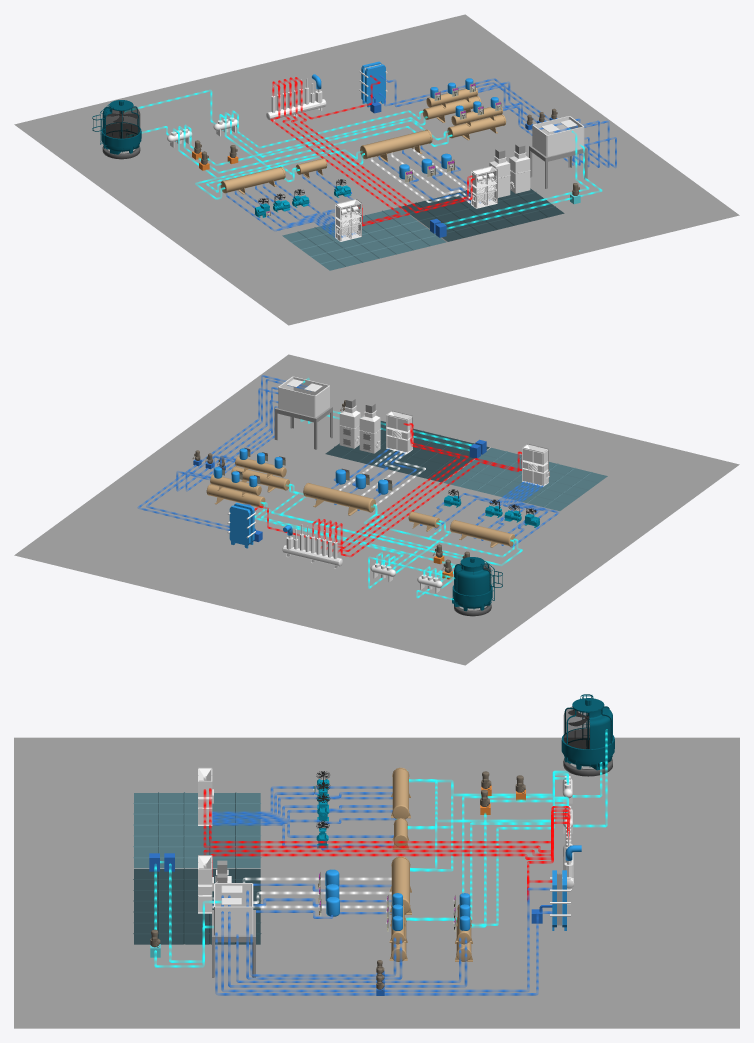
The picture shows the model from 3 angles, top to bottom: view 1: azimuth 30°, elevation 25°; view 2: azimuth 150°, elevation 25°; view 3: azimuth 270°, elevation 25°; orthographic projection. The views are drawn at different scales.
Parts seen in each view (by area): view 1: Land_4_floor, FBXASC229FBXASC185FBXASC179FBXASC233FBXASC157FBXASC162FBXASC, FBXASC231FBXASC171FBXASC139FBXASC230FBXASC150FBXASC185FBXAS. (×2), FBXASC229FBXASC134FBXASC183FBXASC229FBXASC135FBXASC157FBXASC (×3), lengfengta, FBXASC230FBXASC156FBXASC186FBXASC230FBXASC159FBXASC156FBXASC (×2), FBXASC229FBXASC164FBXASC150FBXASC230FBXASC156FBXASC186FBXASC (×2), FBXASC229FBXASC164FBXASC150FBXASC232FBXASC146FBXASC184FBXASC, 4_GD_move.006, FBXASC229FBXASC134FBXASC183FBXASC229FBXASC135FBXASC157FBXAS, 4_GD_move.017, 4_GD_move.034 (+8 smaller); view 2: Land_4_floor, FBXASC229FBXASC185FBXASC179FBXASC233FBXASC157FBXASC162FBXASC, FBXASC231FBXASC171FBXASC139FBXASC230FBXASC150FBXASC185FBXAS. (×2), FBXASC229FBXASC134FBXASC183FBXASC229FBXASC135FBXASC157FBXASC (×3), lengfengta, FBXASC230FBXASC156FBXASC186FBXASC230FBXASC159FBXASC156FBXASC (×2), FBXASC229FBXASC164FBXASC150FBXASC230FBXASC156FBXASC186FBXASC (×2), FBXASC229FBXASC164FBXASC150FBXASC232FBXASC146FBXASC184FBXASC, FBXASC229FBXASC134FBXASC183FBXASC229FBXASC135FBXASC157FBXAS. (×2), 4_GD_move.001, 4_GD_move.019, 4_GD_move (+5 smaller); view 3: Land_4_floor, FBXASC229FBXASC185FBXASC179FBXASC233FBXASC157FBXASC162FBXASC, lengfengta, FBXASC231FBXASC171FBXASC139FBXASC230FBXASC150FBXASC185FBXAS., FBXASC229FBXASC134FBXASC183FBXASC229FBXASC135FBXASC157FBXASC (×2), FBXASC230FBXASC156FBXASC186FBXASC230FBXASC159FBXASC156FBXASC (×2), 4_GD_move.001, 4_GD_move, 4_GD_move.018, 4_GD_move.016, 4_GD_move.017, 4_GD_move.019 (+10 smaller).
Part boxes in pixels (box(x1,y1,x2,y2)): Land_4_floor: box(14, 14, 739, 325); FBXASC229FBXASC185FBXASC179FBXASC233FBXASC157FBXASC162FBXASC: box(282, 188, 564, 270); FBXASC231FBXASC171FBXASC139FBXASC230FBXASC150FBXASC185FBXAS. (×2): box(365, 64, 587, 188); FBXASC229FBXASC134FBXASC183FBXASC229FBXASC135FBXASC157FBXASC (×3): box(220, 96, 481, 194); lengfengta: box(92, 100, 141, 159); FBXASC230FBXASC156FBXASC186FBXASC230FBXASC159FBXASC156FBXASC (×2): box(335, 165, 497, 241); FBXASC229FBXASC164FBXASC150FBXASC230FBXASC156FBXASC186FBXASC (×2): box(489, 151, 530, 197); FBXASC229FBXASC164FBXASC150FBXASC232FBXASC146FBXASC184FBXASC: box(266, 78, 326, 122); 4_GD_move.006: box(444, 128, 602, 229); FBXASC229FBXASC134FBXASC183FBXASC229FBXASC135FBXASC157FBXAS: box(447, 114, 506, 140); 4_GD_move.017: box(283, 79, 474, 213); 4_GD_move.034: box(178, 126, 452, 173); Land_4_floor: box(14, 354, 739, 665); FBXASC229FBXASC185FBXASC179FBXASC233FBXASC157FBXASC162FBXASC: box(325, 421, 607, 511); FBXASC231FBXASC171FBXASC139FBXASC230FBXASC150FBXASC185FBXAS. (×2): box(229, 376, 332, 548); FBXASC229FBXASC134FBXASC183FBXASC229FBXASC135FBXASC157FBXASC (×3): box(206, 483, 515, 547); lengfengta: box(452, 557, 502, 616); FBXASC230FBXASC156FBXASC186FBXASC230FBXASC159FBXASC156FBXASC (×2): box(386, 410, 549, 486); FBXASC229FBXASC164FBXASC150FBXASC230FBXASC156FBXASC186FBXASC (×2): box(339, 405, 380, 453); FBXASC229FBXASC164FBXASC150FBXASC232FBXASC146FBXASC184FBXASC: box(282, 524, 342, 568); FBXASC229FBXASC134FBXASC183FBXASC229FBXASC135FBXASC157FBXAS. (×2): box(210, 456, 286, 496); 4_GD_move.001: box(146, 375, 307, 527); 4_GD_move.019: box(334, 451, 521, 556); 4_GD_move: box(137, 388, 278, 530); Land_4_floor: box(14, 737, 739, 1028); FBXASC229FBXASC185FBXASC179FBXASC233FBXASC157FBXASC162FBXASC: box(133, 792, 261, 944); lengfengta: box(561, 694, 614, 776); FBXASC231FBXASC171FBXASC139FBXASC230FBXASC150FBXASC185FBXAS.: box(212, 883, 255, 977); FBXASC229FBXASC134FBXASC183FBXASC229FBXASC135FBXASC157FBXASC (×2): box(389, 767, 411, 914); FBXASC230FBXASC156FBXASC186FBXASC230FBXASC159FBXASC156FBXASC (×2): box(198, 767, 212, 913); 4_GD_move.001: box(221, 887, 551, 992); 4_GD_move: box(215, 911, 552, 995); 4_GD_move.018: box(203, 789, 569, 852); 4_GD_move.016: box(210, 816, 569, 876); 4_GD_move.017: box(203, 813, 569, 856); 4_GD_move.019: box(209, 788, 570, 843).
Bounding box in the file's own units: 112 × 14.1 × 118.
26 materials, 4 textured.
